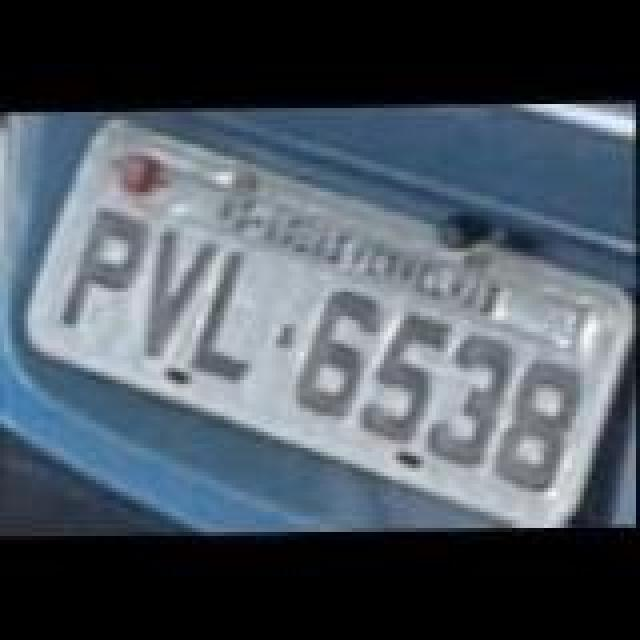3: (424, 336, 520, 476)
5: (354, 306, 458, 442)
6: (292, 282, 384, 422)
8: (484, 358, 588, 498)
L: (186, 244, 258, 384)
P: (50, 208, 154, 336)
V: (144, 226, 228, 362)
